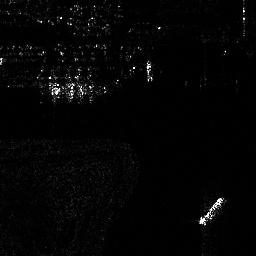ship: (198, 194, 226, 225), (143, 58, 154, 82)
